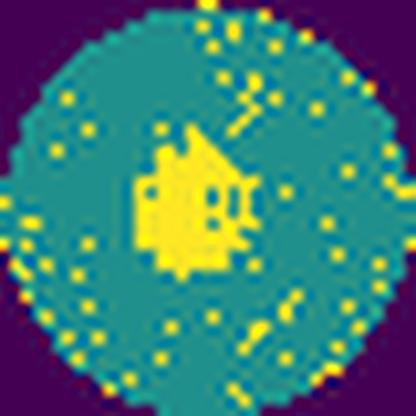Center: (135, 122, 263, 283)
